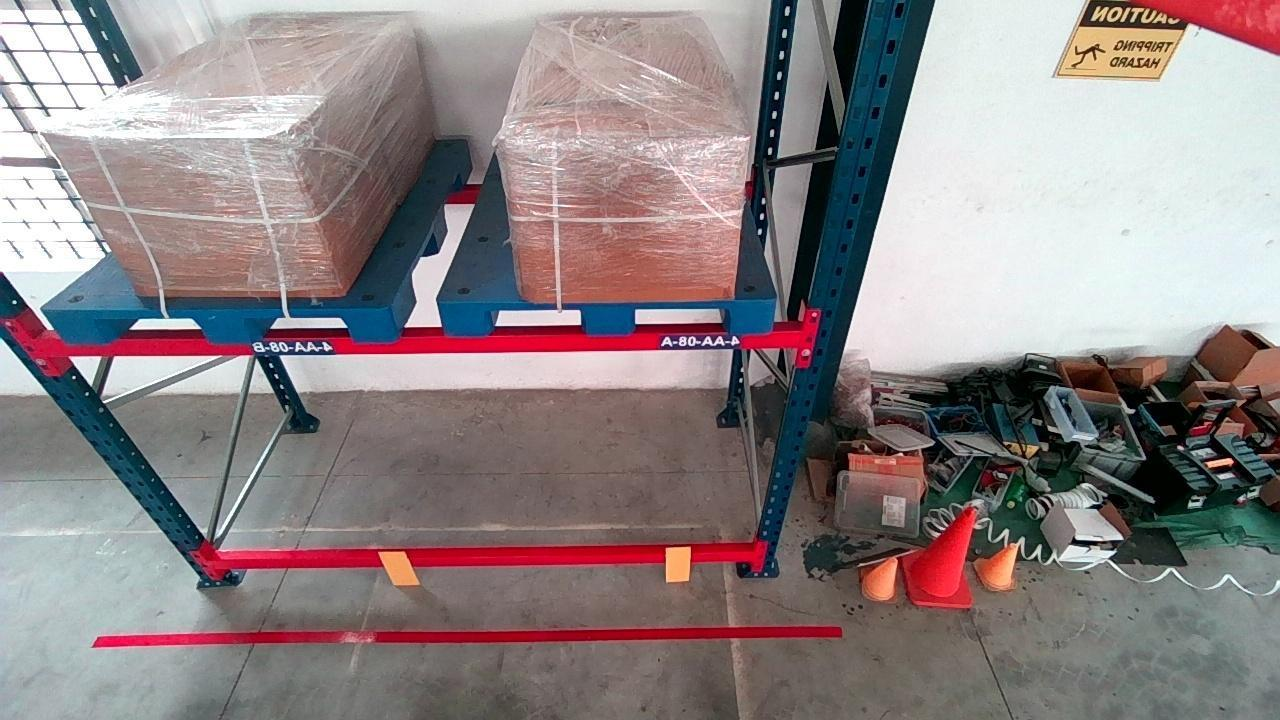h_rack: (49, 317, 808, 358), (213, 546, 752, 572)
orange_strip: (381, 549, 419, 584), (664, 545, 694, 581)
red_line: (103, 615, 839, 658)
small_pallet: (61, 305, 395, 343), (453, 299, 776, 335)
